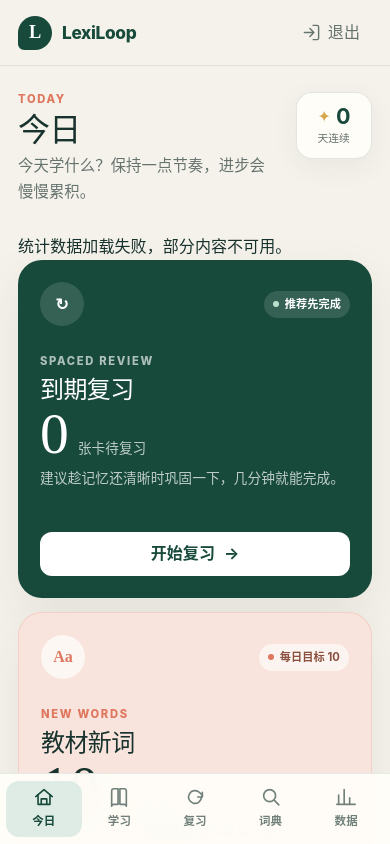
Test case: shell routing › returns to the top when the user changes sections
Expected: the heading "今日" is shown, x1=18 y1=110 x2=80 y2=149
Step 1. Click the link "学习" → [119, 807], box x1=108 y1=786 x2=131 y2=828
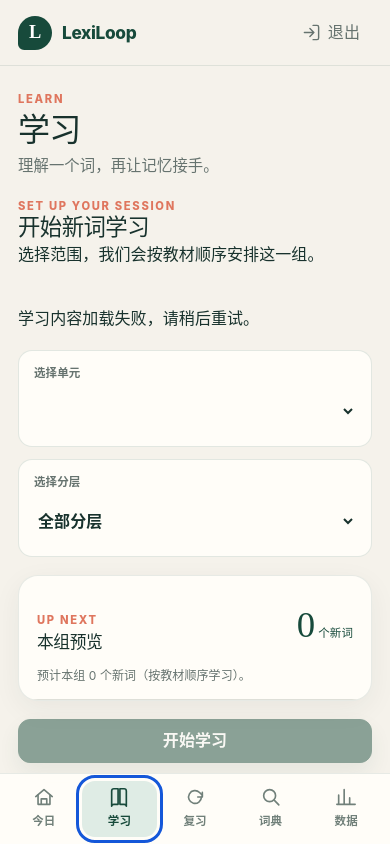
Expected: the heading "学习" is shown, x1=18 y1=110 x2=80 y2=149
